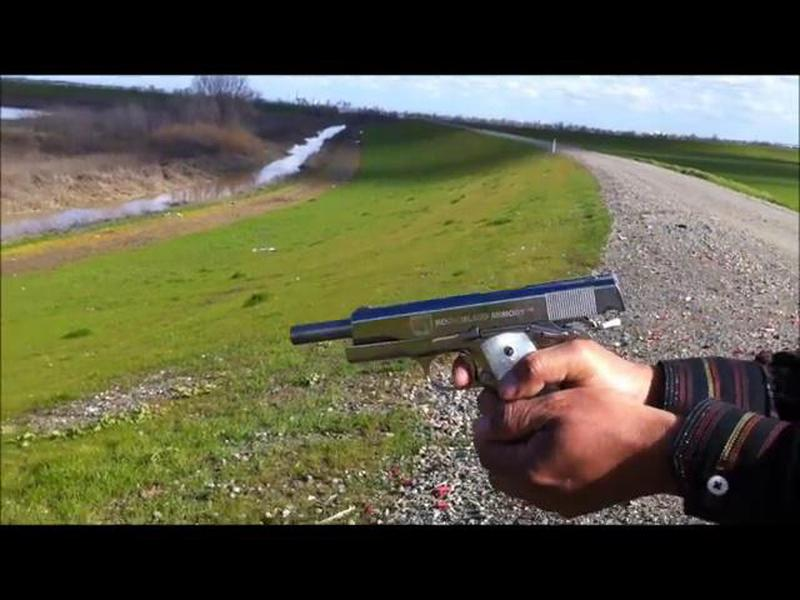Pistola: (267, 265, 637, 464)
